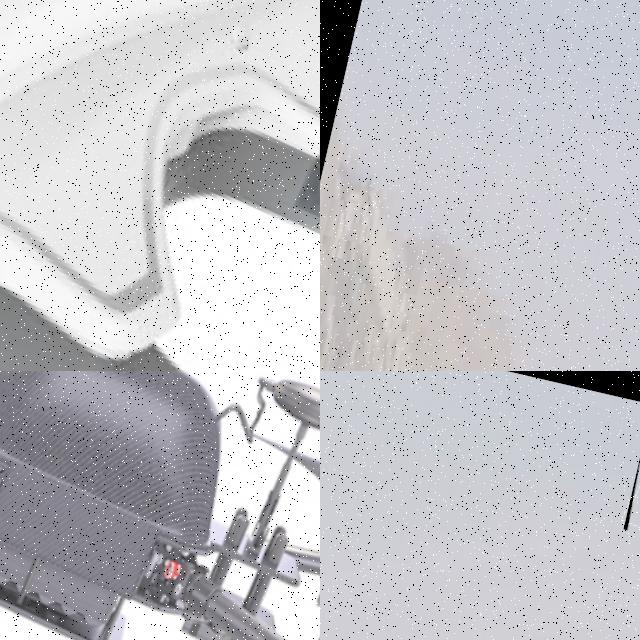0: (623, 430, 640, 544)
drone: (0, 0, 320, 371), (0, 371, 320, 640)
